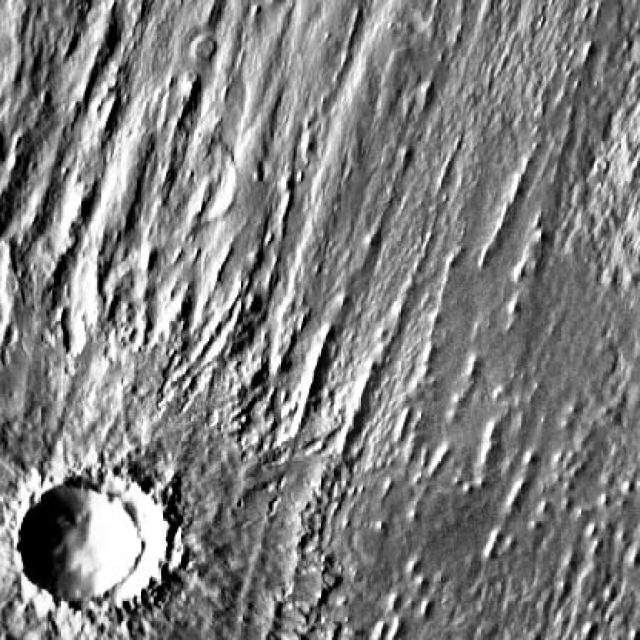crater: (46, 477, 182, 612), (31, 482, 146, 596), (162, 149, 236, 222)
